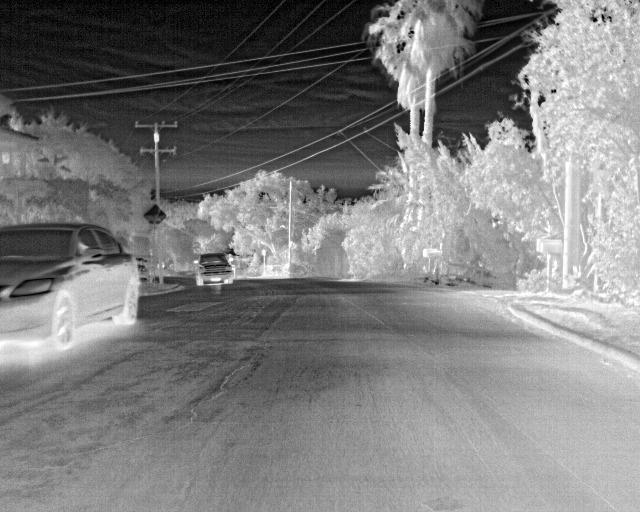car: (0, 220, 142, 351), (195, 251, 234, 286)
